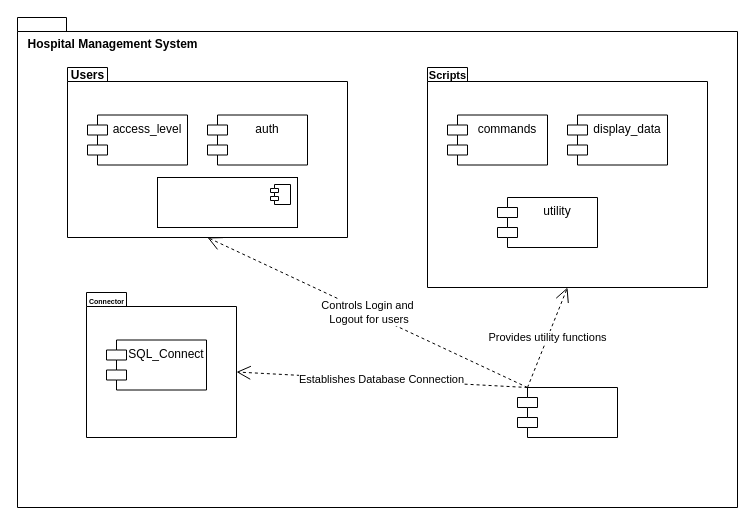
Image size: 755x525. Some labels were removed from this diagram. Each missing label, with the centre of its shape:
logins: pixel 227 202
Main: pixel 567 412
